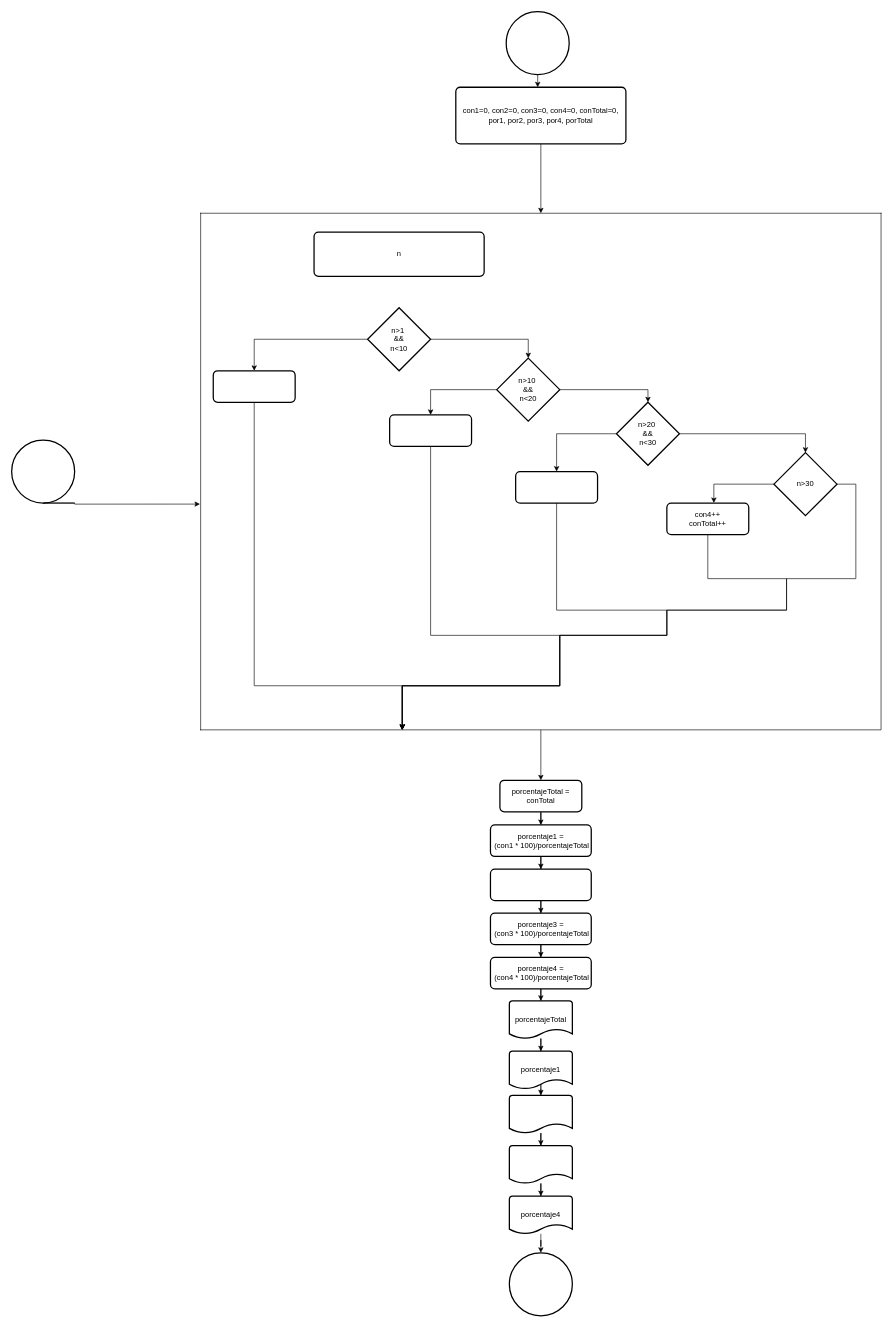
Image size: 892x1327. Some labels were removed from this diagram. Each missing label, with the box of its shape:
con1++ conTotal++: (212, 370, 295, 403)
con2++ conTotal++: (389, 414, 472, 447)
con3++ conTotal++: (515, 471, 598, 503)
i < 30: (11, 439, 75, 503)
porcentaje2: (508, 1094, 573, 1133)
porcentaje2 = (con2 * 100)/porcentajeTotal: (490, 868, 592, 901)
porcentaje3: (508, 1145, 573, 1184)
